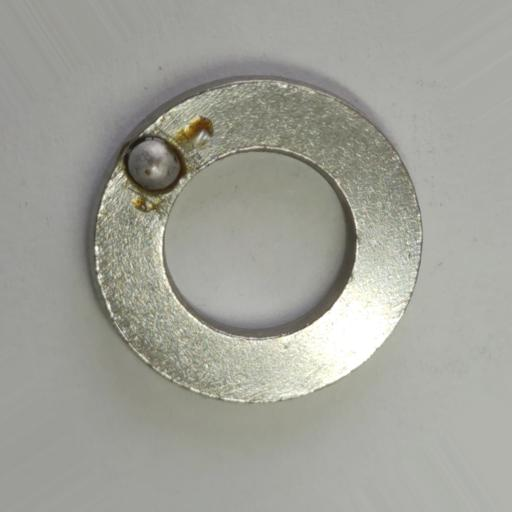excess_material: (126, 135, 185, 196)
